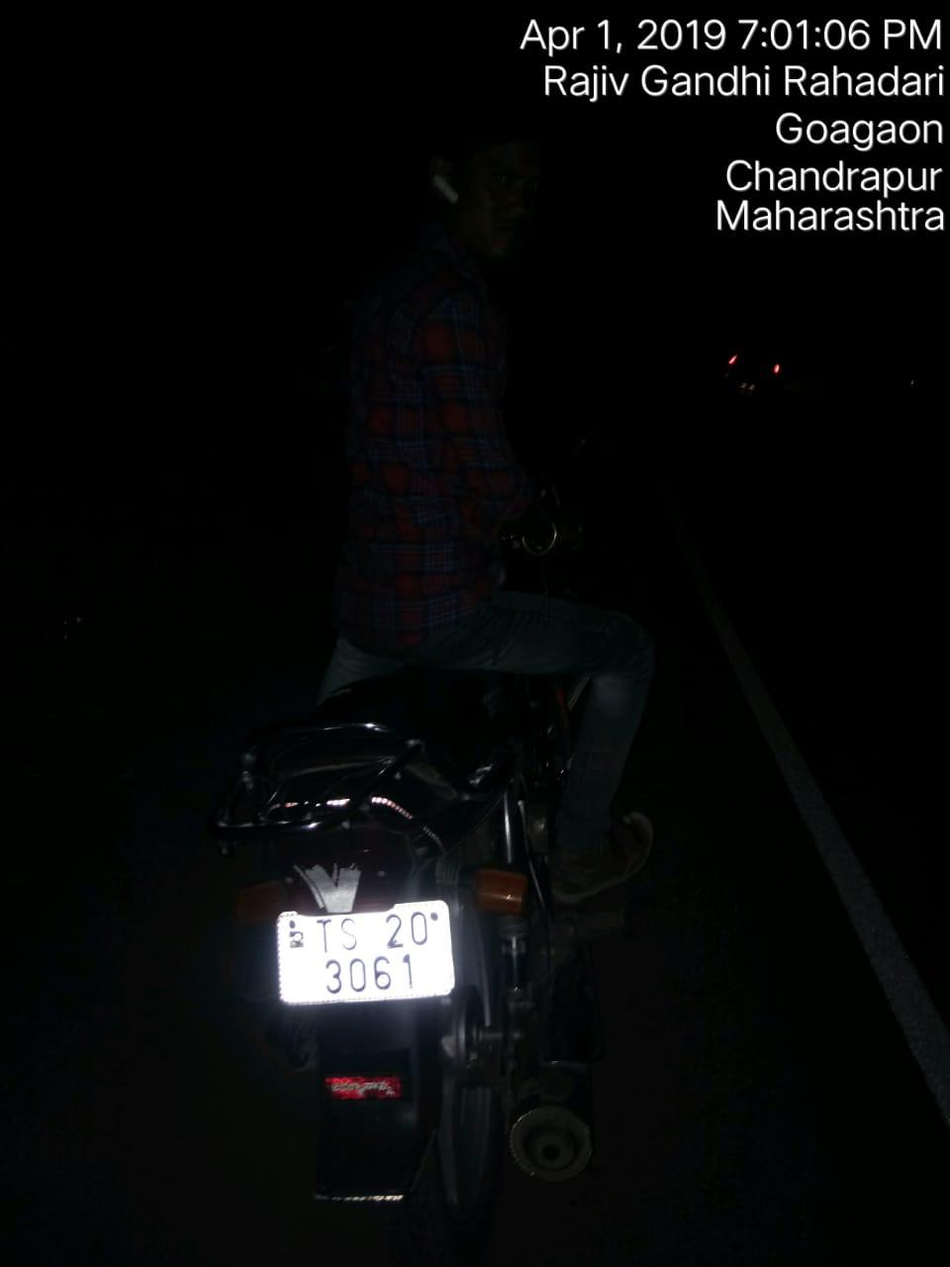plate: (248, 887, 485, 1030)
